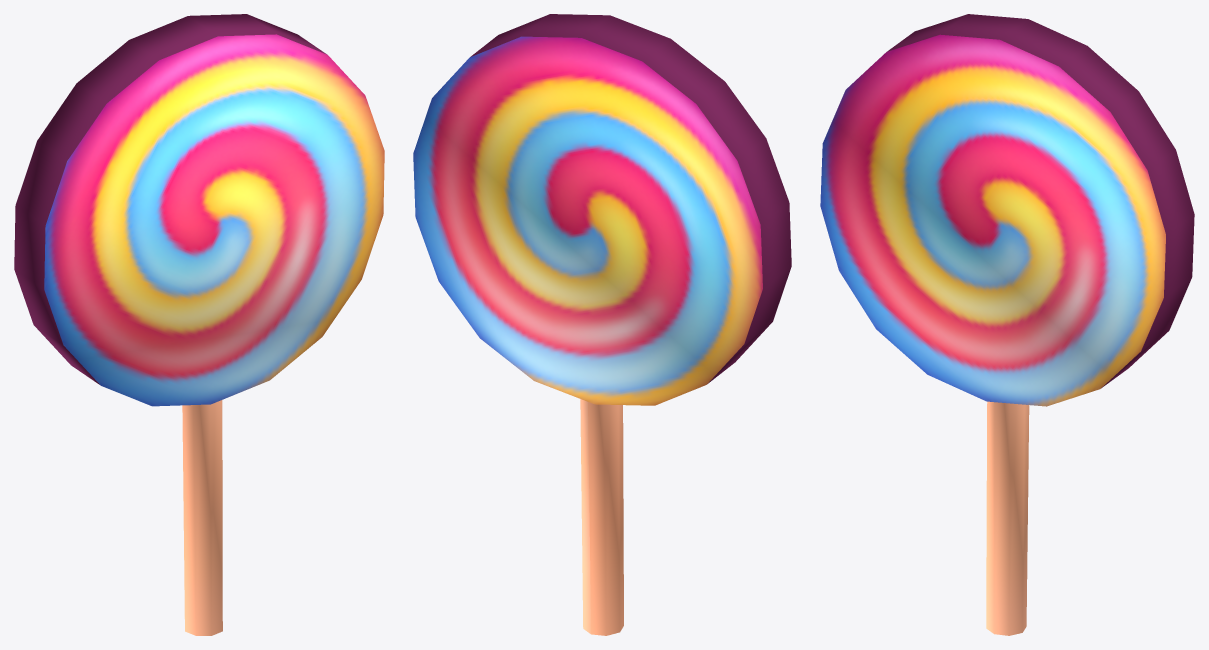
The model's file is pink_lollipop.glb.
3 views of the same model, side by side, from view 1: azimuth 30°, elevation 25°; view 2: azimuth 150°, elevation 25°; view 3: azimuth 330°, elevation 25° (orthographic).
Visible parts, largest first — view 1: pink_lollipop; view 2: pink_lollipop; view 3: pink_lollipop.
Part boxes in pixels (x1,y1,x2,y2): pink_lollipop: (14,14,384,635); pink_lollipop: (413,14,791,635); pink_lollipop: (820,14,1194,635).
Bounding box in the file's own units: 0.6815 × 1.13 × 0.1146.
Materials: 1 (1 with a texture image).
